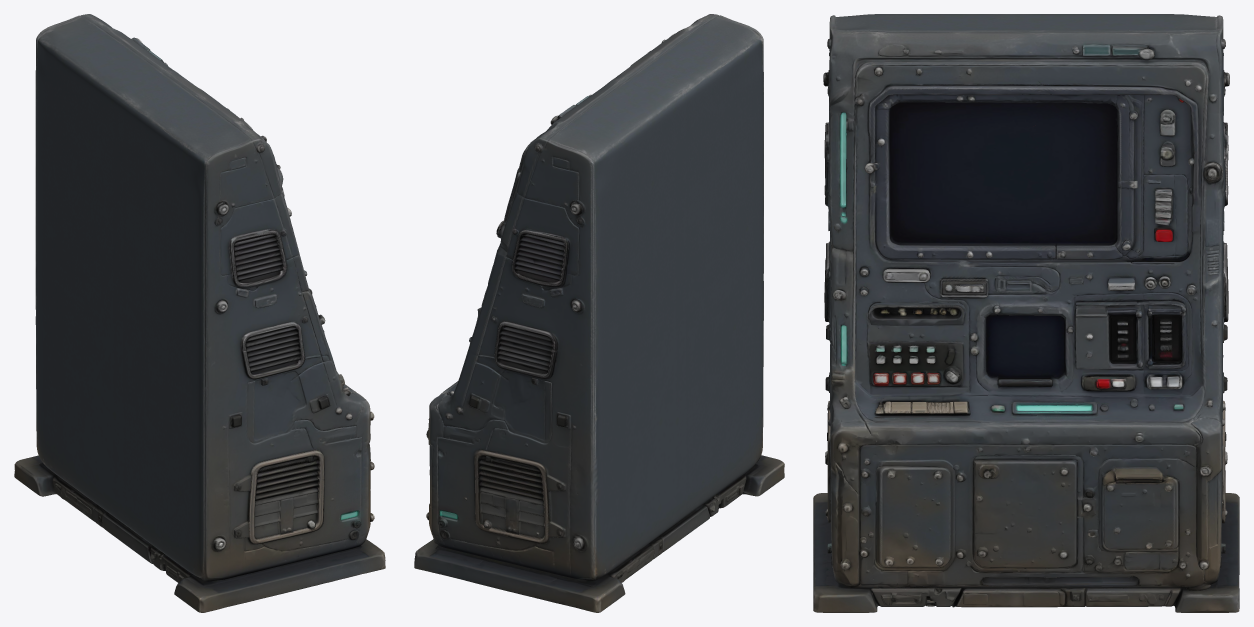
File: side_console.glb
3 renders of one model, left to right at view 1: azimuth 30°, elevation 25°; view 2: azimuth 150°, elevation 25°; view 3: azimuth 270°, elevation 25°, orthographic. The views are drawn at different scales.
Visible parts, largest first — view 1: tripo_node_94ac114a-4883-4c96-a673-5f47150c3256; view 2: tripo_node_94ac114a-4883-4c96-a673-5f47150c3256; view 3: tripo_node_94ac114a-4883-4c96-a673-5f47150c3256.
Part boxes in pixels (left/top/right/bottom): tripo_node_94ac114a-4883-4c96-a673-5f47150c3256: left=14, top=14, right=385, bottom=612; tripo_node_94ac114a-4883-4c96-a673-5f47150c3256: left=414, top=14, right=784, bottom=612; tripo_node_94ac114a-4883-4c96-a673-5f47150c3256: left=813, top=14, right=1239, bottom=612.
Size of the model in its own units: 0.4265 by 0.9833 by 0.7359.
1 material, 1 textured.
